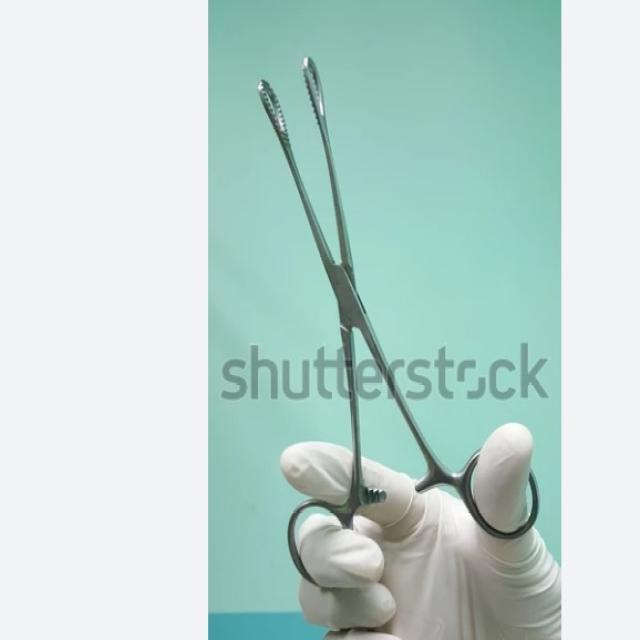Sponge Holding Forceps: (252, 48, 544, 574)
